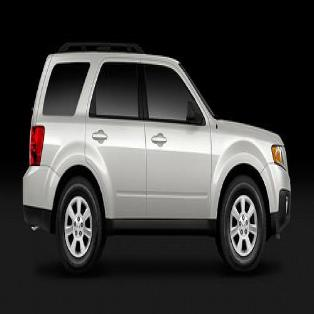Auto: (22, 51, 292, 277)
